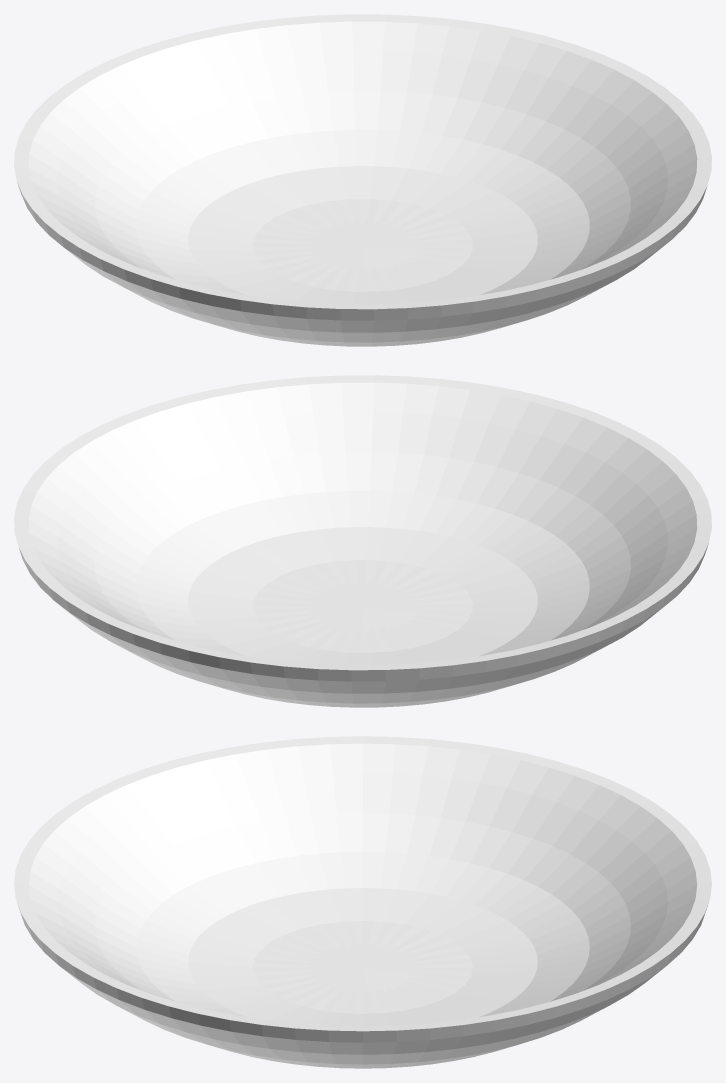
Rendered from Plate.fbx.
3 renders of one model, top to bottom at view 1: azimuth 30°, elevation 25°; view 2: azimuth 150°, elevation 25°; view 3: azimuth 270°, elevation 25°, orthographic.
Parts seen in each view (by area): view 1: Plate; view 2: Plate; view 3: Plate.
Part boxes in pixels (x1=…): Plate: x1=14, y1=14, x2=711, y2=346; Plate: x1=14, y1=375, x2=711, y2=707; Plate: x1=14, y1=736, x2=711, y2=1068.
Bounding box in the file's own units: 136 × 23.1 × 136.
